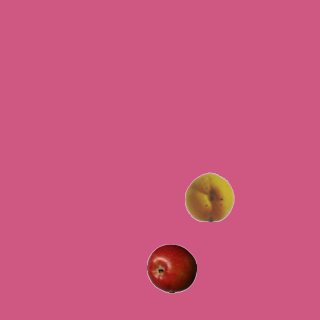Apple Braeburn: (146, 243, 196, 293)
Peach 2: (184, 171, 234, 221)
